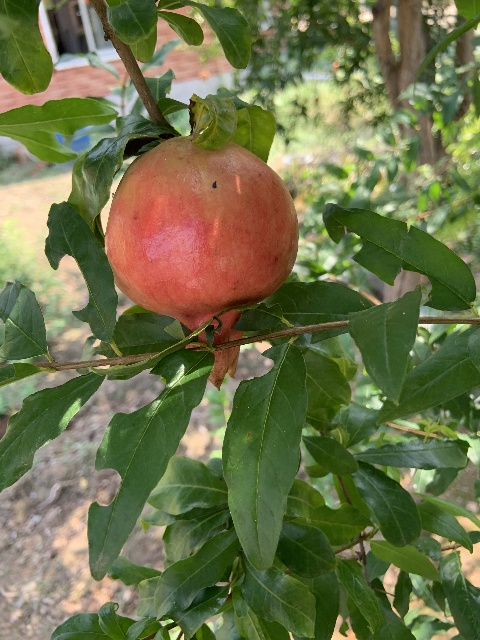ripe: (104, 137, 300, 391)
